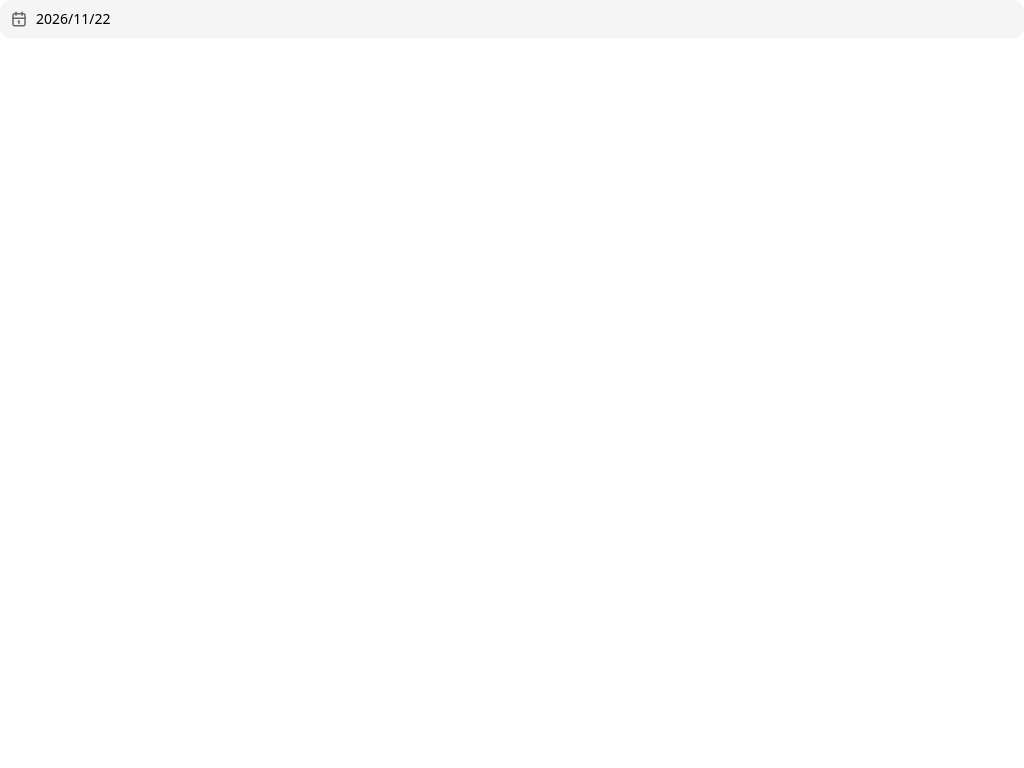
搜索日历 › 起始日历禁用结束后的日期，仅显示日期且无时分选择
Later steps or results of the test are not shown.
Click the button named "开始". click: (73, 18)
box: x1=0 y1=0 x2=1023 y2=38
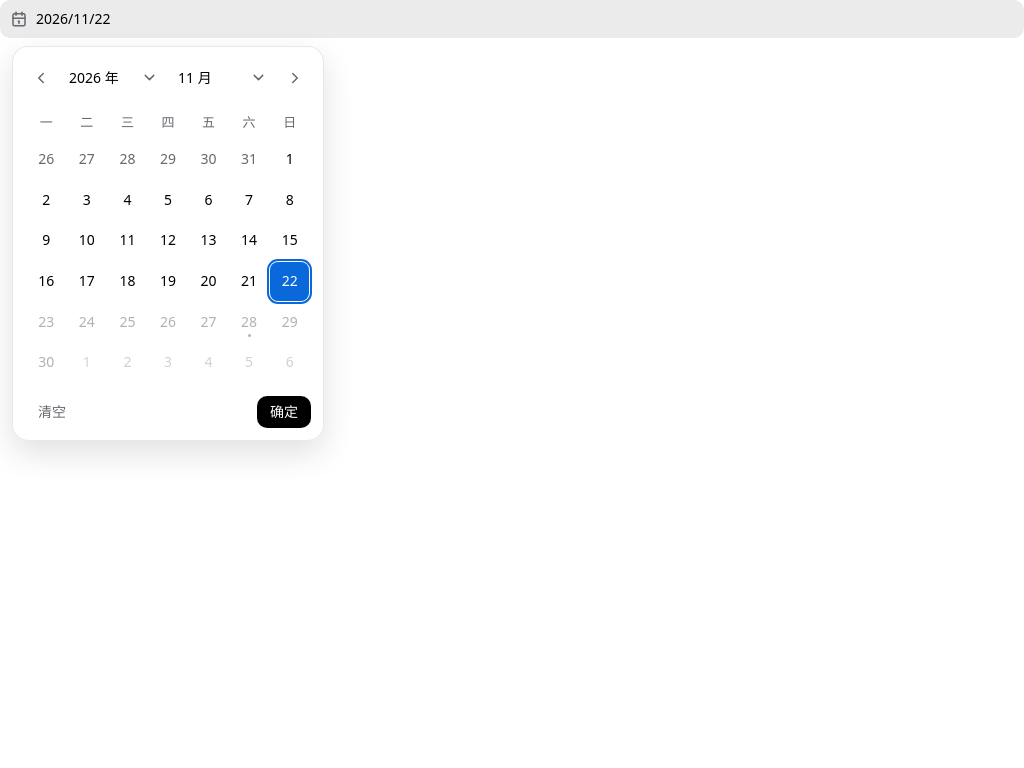
Check: the button named "2026年11月23日" is disabled, box x1=27 y1=302 x2=66 y2=341
Check: the button named "2026年11月22日" is enabled, box x1=270 y1=262 x2=309 y2=300
